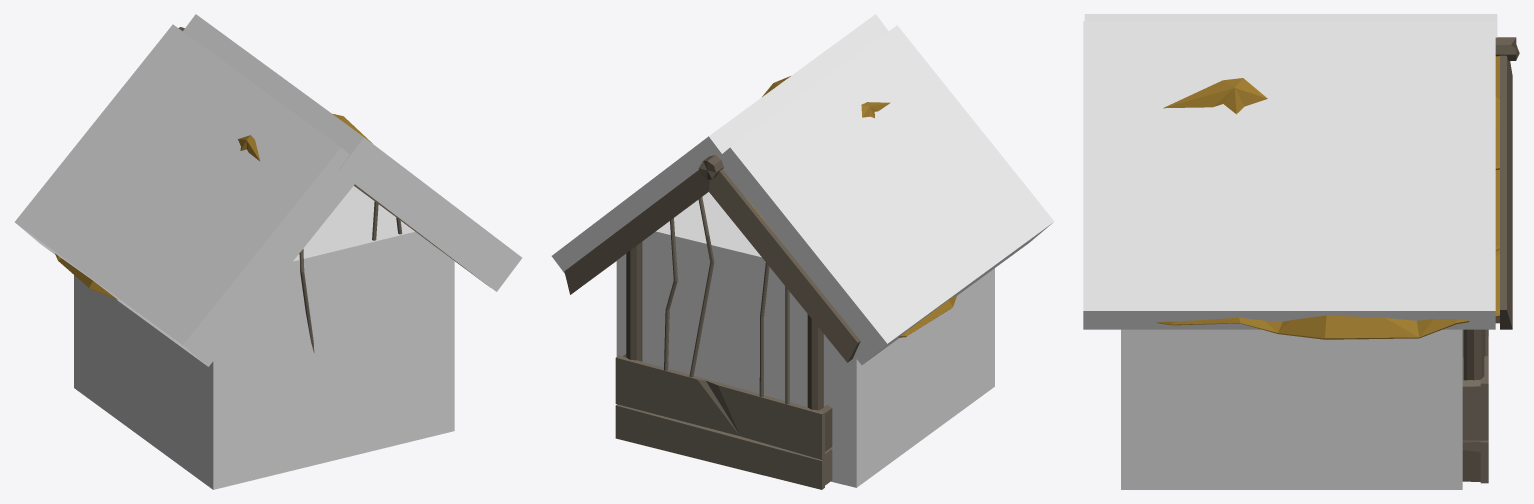
The model's file is hayloft.glb.
3 renders of one model, left to right at view 1: azimuth 30°, elevation 25°; view 2: azimuth 150°, elevation 25°; view 3: azimuth 270°, elevation 25°, orthographic. The views are drawn at different scales.
Parts seen in each view (by area): view 1: Cube, Cube.001, Cube.002, HAYLOFT; view 2: Cube.001, Cube, HAYLOFT, Cube.002; view 3: Cube.002, Cube, HAYLOFT, Cube.001.
Boxes of the visible parts, x1,y1,x2,y2 form: Cube: [74, 186, 454, 489]; Cube.001: [14, 24, 354, 366]; Cube.002: [183, 14, 522, 291]; HAYLOFT: [55, 27, 487, 352]; Cube.001: [718, 25, 1054, 364]; Cube: [616, 192, 994, 487]; HAYLOFT: [564, 76, 957, 489]; Cube.002: [551, 14, 888, 276]; Cube.002: [1083, 21, 1495, 329]; Cube: [1121, 329, 1462, 489]; HAYLOFT: [1156, 37, 1519, 483]; Cube.001: [1084, 14, 1497, 37].
Bounding box in the file's own units: 3.33 × 3.08 × 3.
Materials: 1 (1 with a texture image).
